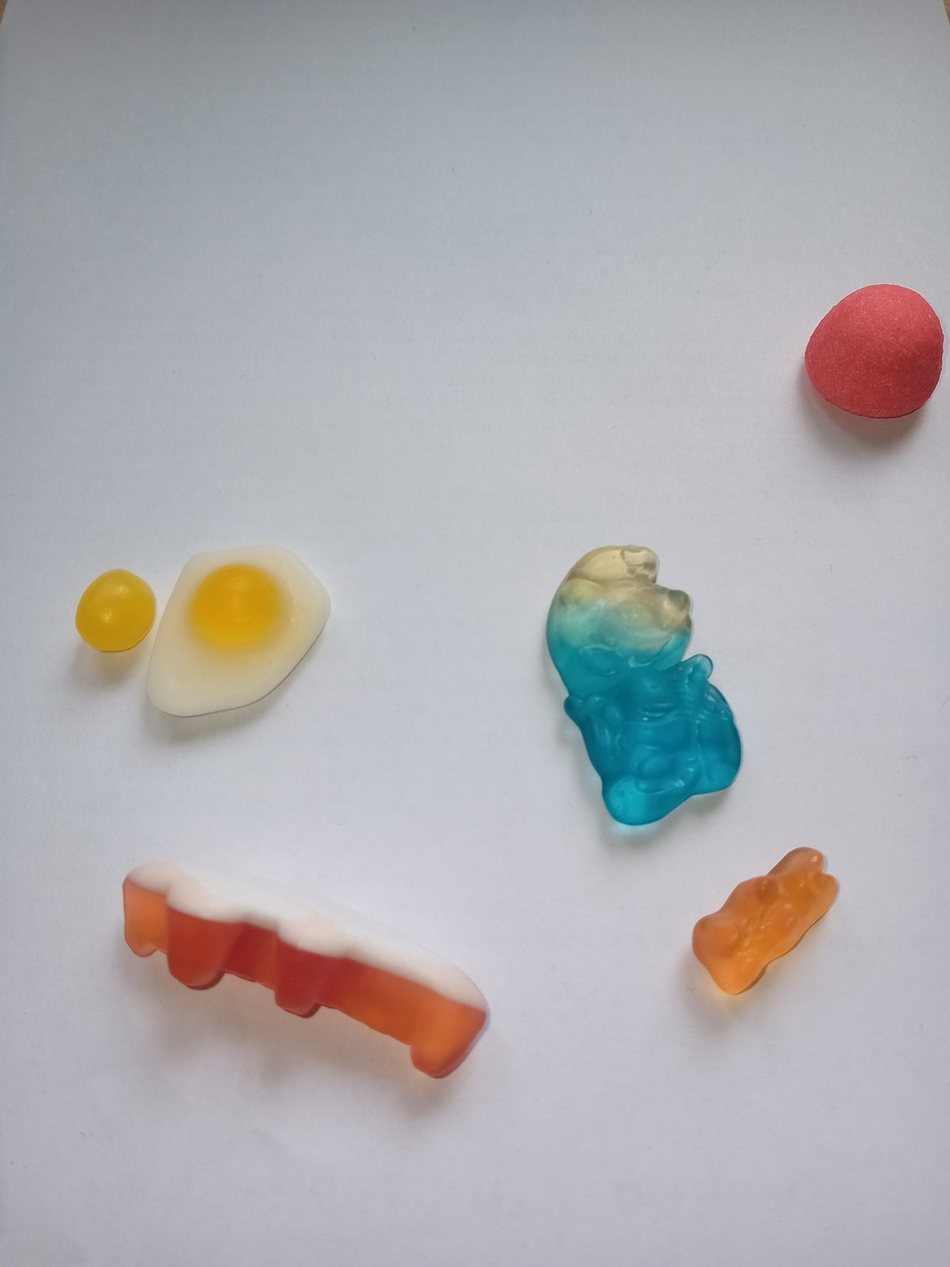crocodile_orange: (112, 849, 498, 1083)
dragibus_jaune: (74, 565, 162, 659)
oeuf_oeuf: (144, 540, 331, 723)
ourson_orangeClair: (687, 840, 846, 999)
schtroumpf_bleu-blanc: (542, 529, 748, 830)
tagada_fraise: (795, 270, 946, 430)
